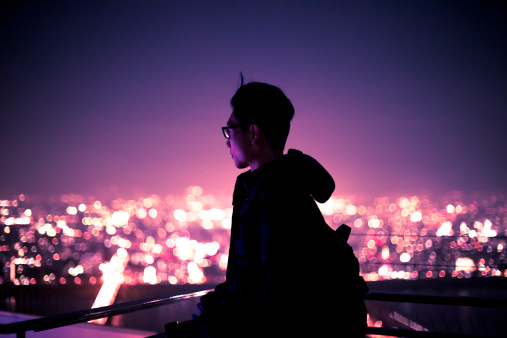em pe: (179, 69, 364, 338)
